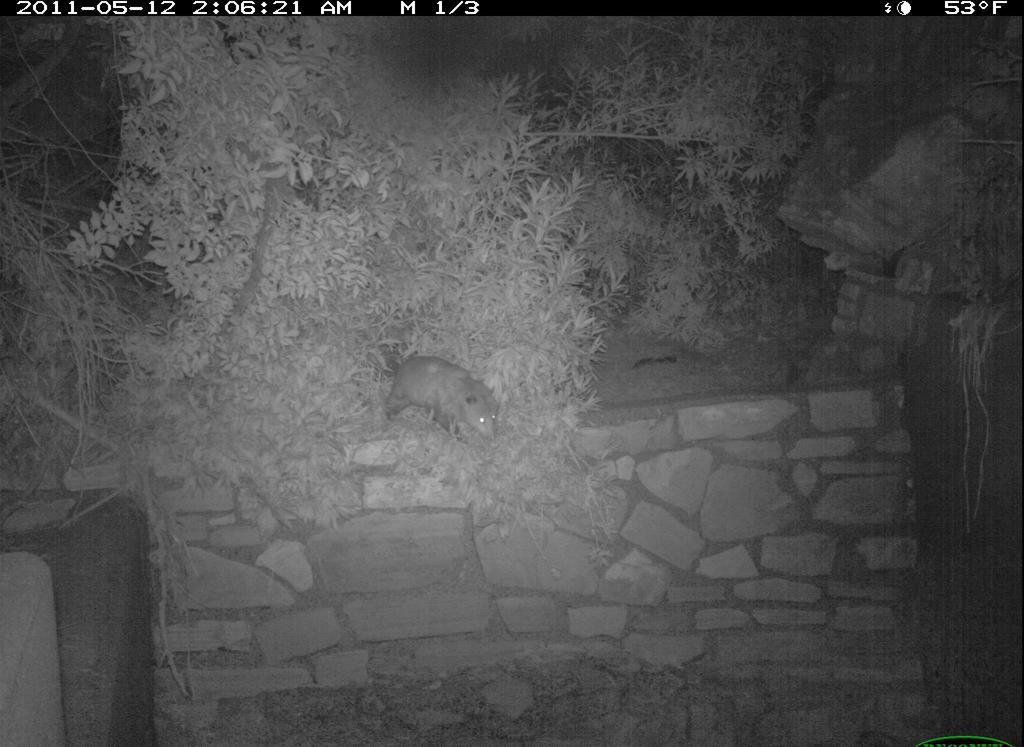opossum: (374, 344, 510, 451)
